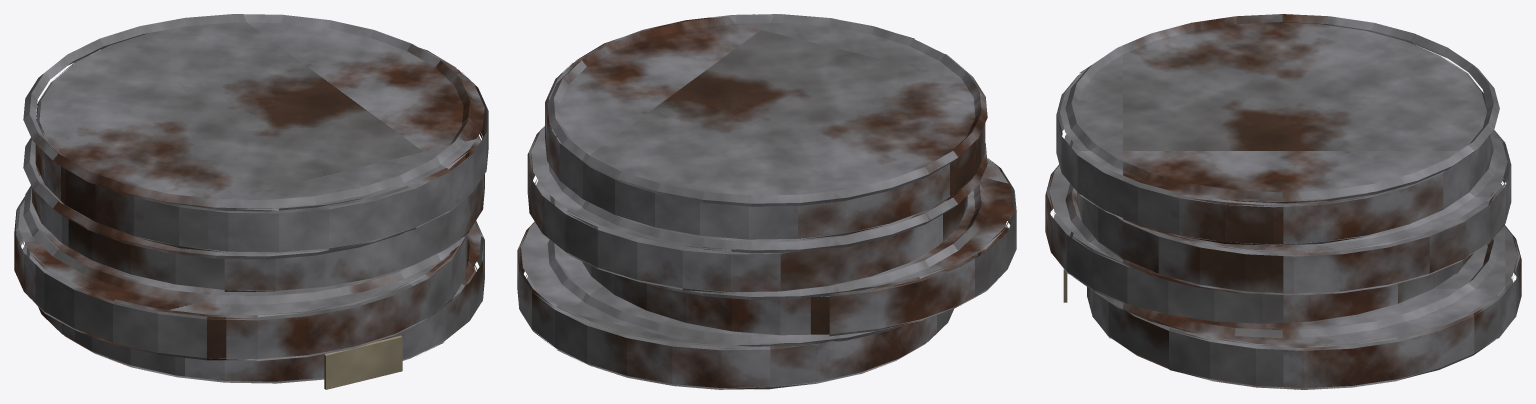
The model's file is Q04_film_reel_cans_v2.glb.
3 renders of one model, left to right at view 1: azimuth 30°, elevation 25°; view 2: azimuth 150°, elevation 25°; view 3: azimuth 270°, elevation 25°, orthographic. The views are drawn at different scales.
Parts seen in each view (by area): view 1: Q04_film_reel_cans_v2; view 2: Q04_film_reel_cans_v2; view 3: Q04_film_reel_cans_v2.
Boxes of the visible parts, x1,y1,x2,y2 form: Q04_film_reel_cans_v2: [14, 14, 488, 389]; Q04_film_reel_cans_v2: [517, 14, 1016, 389]; Q04_film_reel_cans_v2: [1045, 14, 1521, 389].
Size of the model in its own units: 0.4 by 0.1727 by 0.3985.
Materials: 2 (2 with a texture image).
